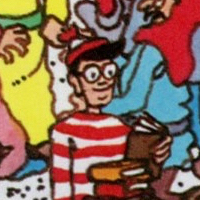waldo: (75, 37, 116, 106)
